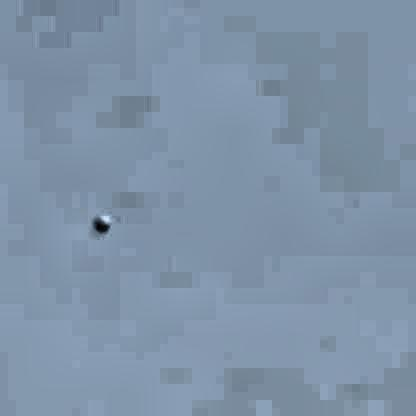golfball: (91, 212, 107, 230)
